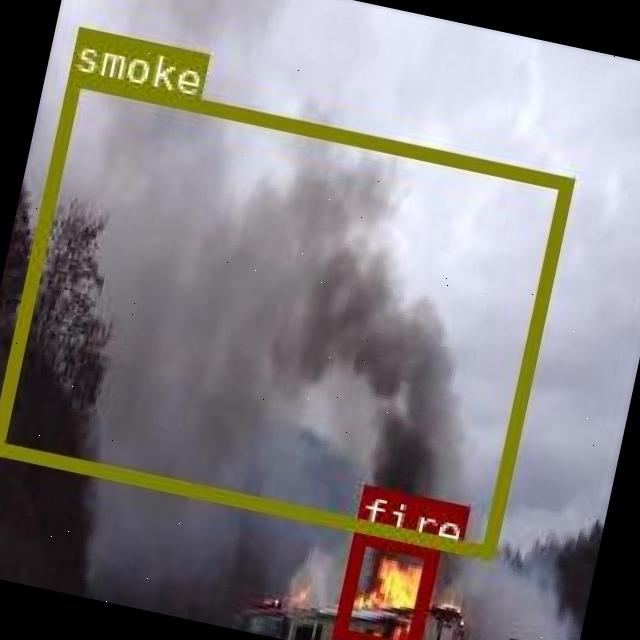fire: (330, 526, 436, 640)
smoke: (0, 68, 571, 557)
